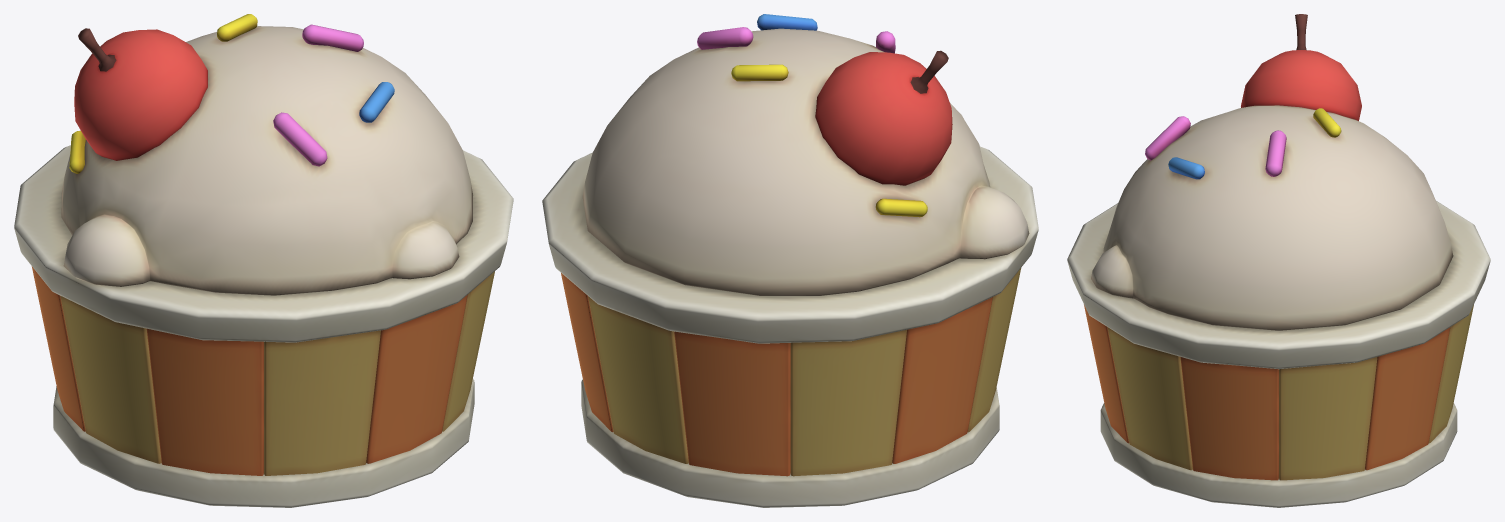
File: CupCake.fbx
The picture shows the model from 3 angles, left to right: view 1: azimuth 30°, elevation 25°; view 2: azimuth 150°, elevation 25°; view 3: azimuth 270°, elevation 25°; orthographic projection. The views are drawn at different scales.
Parts seen in each view (by area): view 1: CupCake; view 2: CupCake; view 3: CupCake.
Part boxes in pixels (left/top/right/bottom): CupCake: left=14, top=14, right=513, bottom=507; CupCake: left=542, top=14, right=1038, bottom=507; CupCake: left=1067, top=14, right=1490, bottom=507.
Bounding box in the file's own units: 69.89 × 64.57 × 69.89.
